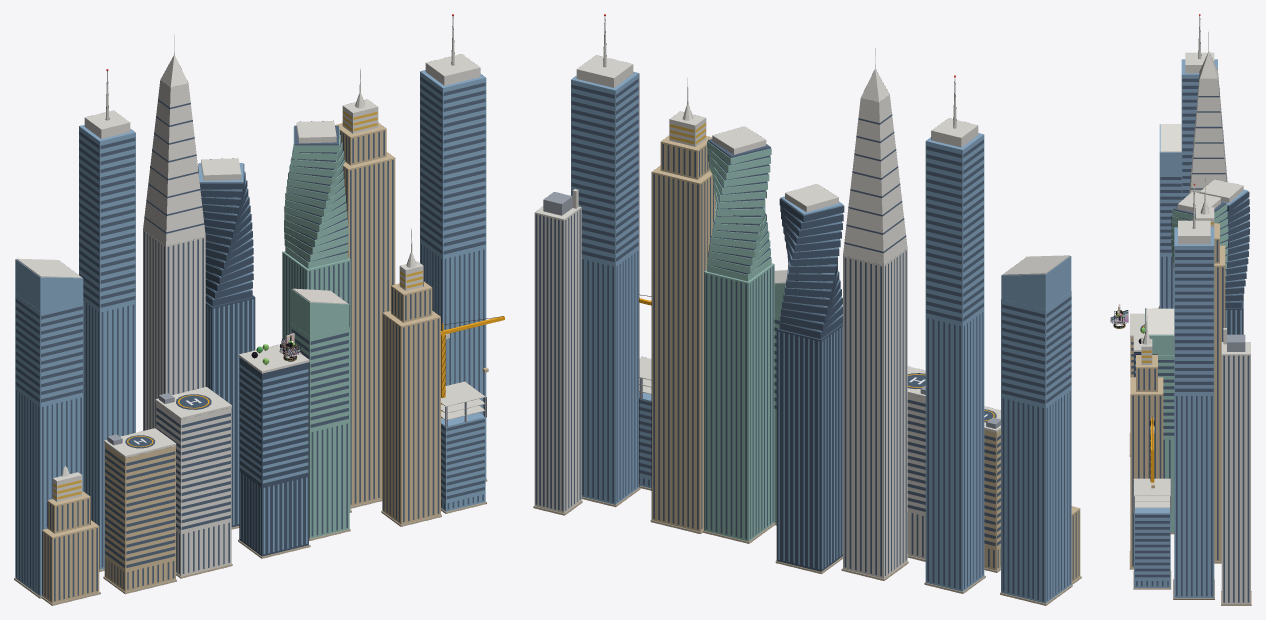
The model's file is fps-kit-spire.glb.
The picture shows the model from 3 angles, left to right: view 1: azimuth 30°, elevation 25°; view 2: azimuth 150°, elevation 25°; view 3: azimuth 270°, elevation 25°; orthographic projection. The views are drawn at different scales.
Visible parts, largest first — view 1: KIT_SPIRE_Backdrop_RowB, KIT_SPIRE_Backdrop_RowA; view 2: KIT_SPIRE_Backdrop_RowB, KIT_SPIRE_Backdrop_RowA; view 3: KIT_SPIRE_Backdrop_RowB, KIT_SPIRE_Backdrop_RowA.
Boxes of the visible parts, x1,y1,x2,y2 form: KIT_SPIRE_Backdrop_RowB: (14,14,487,598); KIT_SPIRE_Backdrop_RowA: (41,68,504,605); KIT_SPIRE_Backdrop_RowB: (571,14,1072,605); KIT_SPIRE_Backdrop_RowA: (533,75,1081,593); KIT_SPIRE_Backdrop_RowB: (1129,32,1228,599); KIT_SPIRE_Backdrop_RowA: (1133,14,1251,605).
Bounding box in the file's own units: 261 × 268 × 77.43.
1 material, 1 textured.
